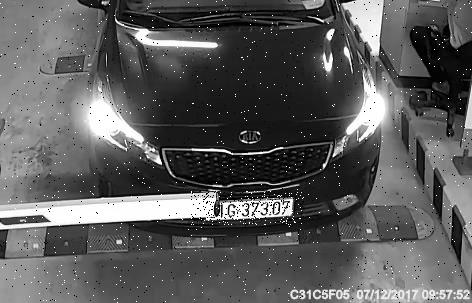License-plate: (193, 192, 306, 226)
